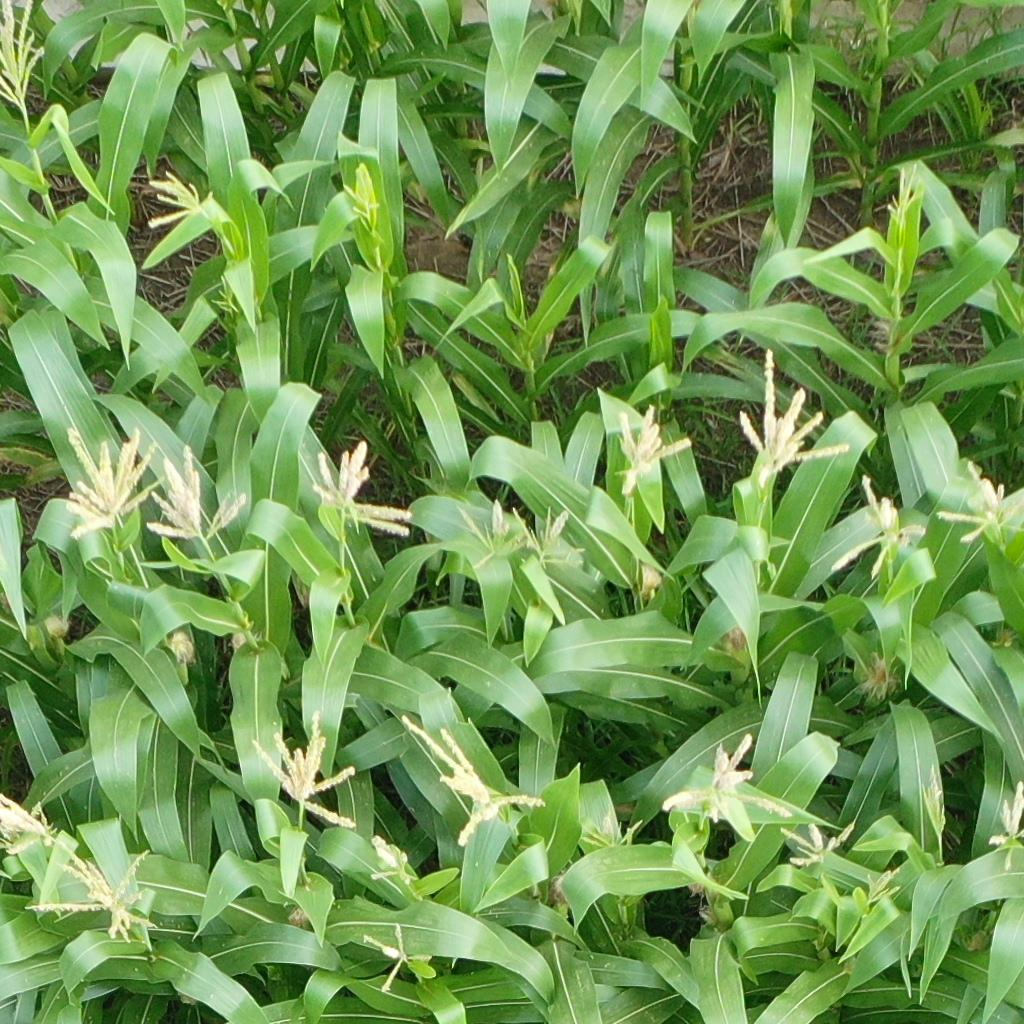Tassel: (402, 713, 547, 848), (730, 348, 850, 486), (26, 834, 159, 944), (248, 711, 365, 834), (660, 735, 790, 825), (61, 428, 159, 537), (825, 474, 925, 578), (312, 437, 414, 538), (149, 444, 248, 542), (936, 457, 1023, 543), (613, 406, 694, 495), (456, 495, 526, 569), (513, 500, 589, 565), (362, 922, 432, 992), (1, 1, 46, 103), (780, 816, 856, 870), (1, 790, 61, 856), (984, 783, 1024, 875), (144, 170, 209, 226), (578, 805, 645, 853), (885, 161, 923, 224), (371, 836, 416, 888), (341, 168, 380, 218), (923, 765, 948, 830), (865, 868, 902, 904)
